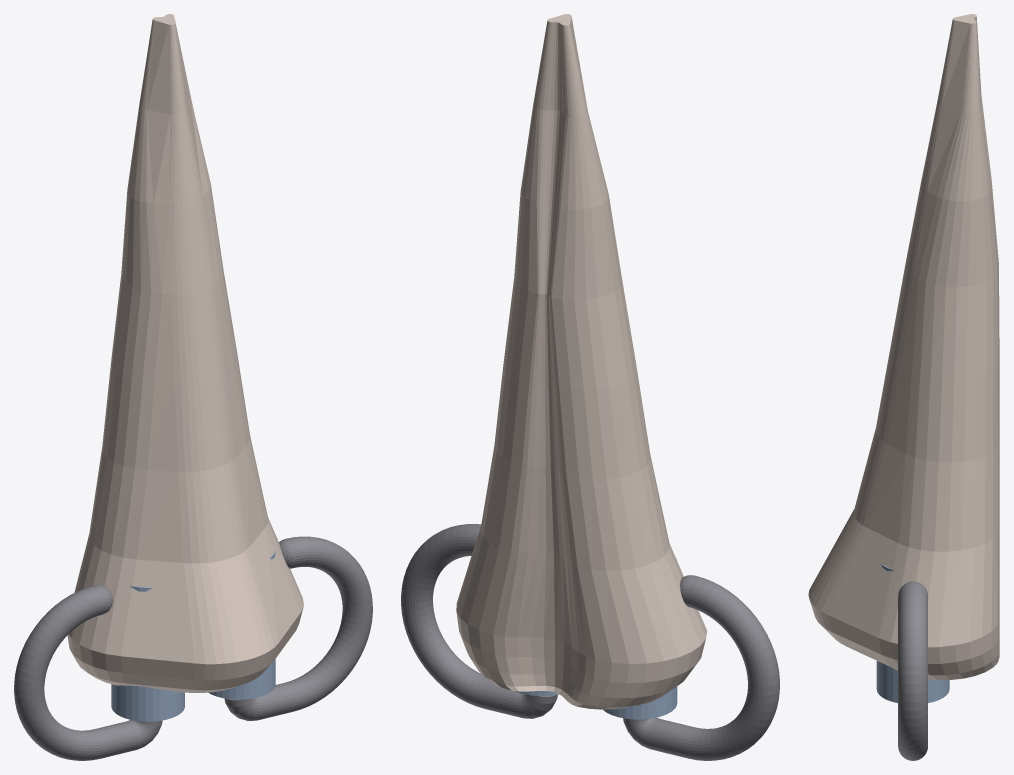
The model's file is candidate_high_retention.glb.
3 renders of one model, left to right at view 1: azimuth 30°, elevation 25°; view 2: azimuth 150°, elevation 25°; view 3: azimuth 270°, elevation 25°, orthographic. The views are drawn at different scales.
Parts seen in each view (by area): view 1: body, frame_left, frame_right, plug_left, plug_right; view 2: body, frame_left, frame_right, plug_left; view 3: body, frame_right, plug_right.
Boxes of the visible parts, <box> form: body: <box>67,14,303,692</box>; frame_left: <box>14,585,162,760</box>; frame_right: <box>224,536,372,720</box>; plug_left: <box>111,586,184,721</box>; plug_right: <box>208,550,275,699</box>; body: <box>456,14,706,709</box>; frame_left: <box>623,575,779,760</box>; frame_right: <box>401,524,557,718</box>; plug_left: <box>603,558,677,719</box>; body: <box>808,14,999,679</box>; frame_right: <box>898,581,927,760</box>; plug_right: <box>876,564,949,702</box>.
Size of the model in its own units: 33.28 by 62.31 by 15.7.
